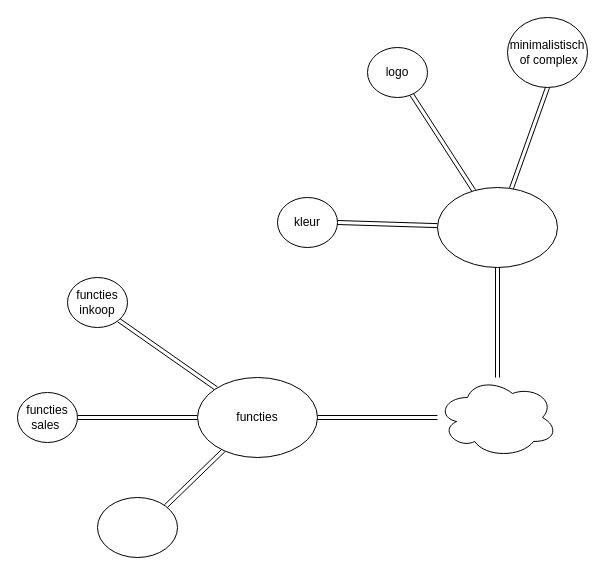
This 605x575 diagram has some shape labels left out. The shapes that lost their labels are listed below. From the top down, each one's centre as x and y in pixels, then its label:
the point at 497,227: styling
the point at 497,417: interview vragen
the point at 137,527: functies maintanance
